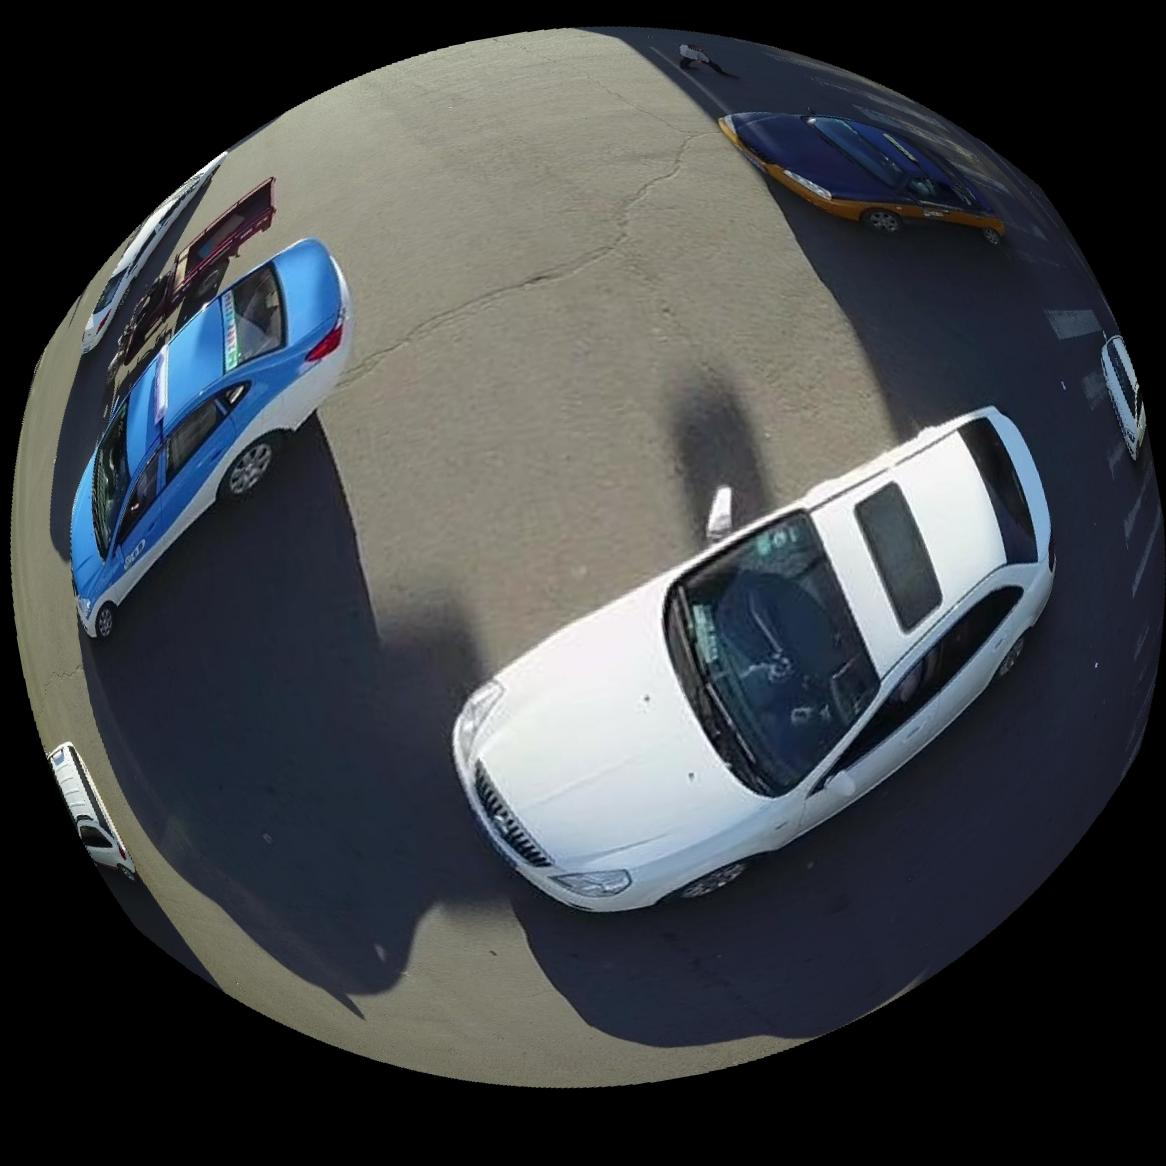cars: (453, 406, 1058, 912), (68, 238, 352, 637), (720, 110, 1008, 242)
